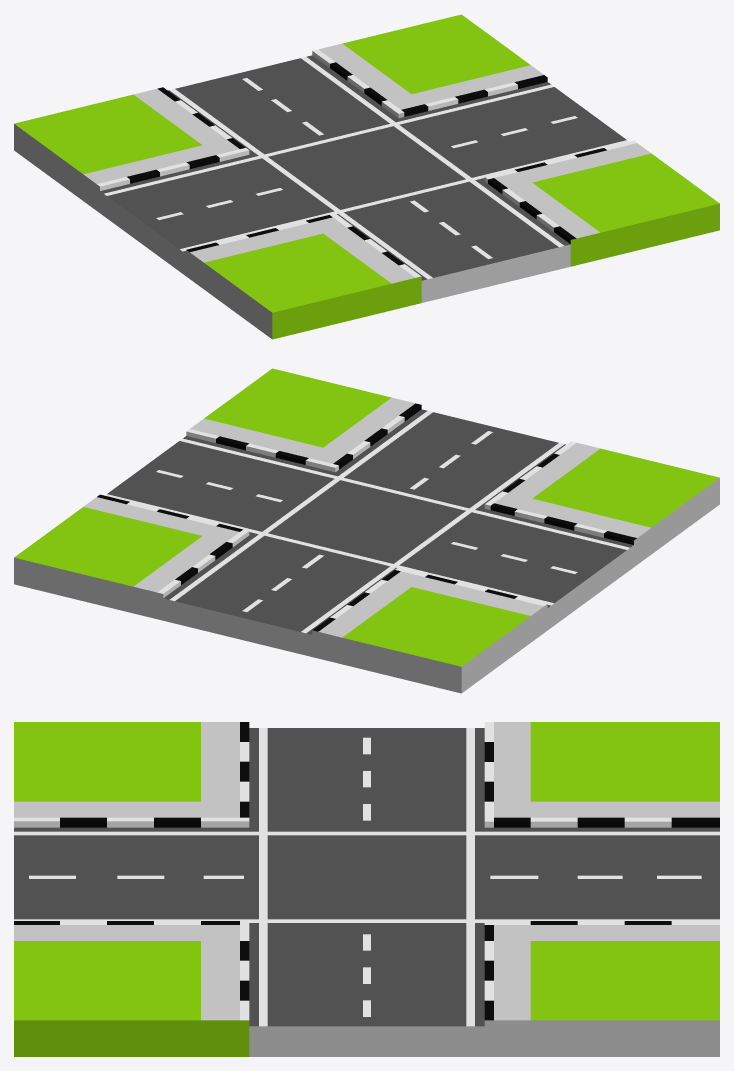
File: single lane crossjunction road.FBX
3 views of the same model, one above another, from view 1: azimuth 30°, elevation 25°; view 2: azimuth 150°, elevation 25°; view 3: azimuth 270°, elevation 25° (orthographic). The views are drawn at different scales.
Parts seen in each view (by area): view 1: cross road; view 2: cross road; view 3: cross road.
Part boxes in pixels (x1,y1,x2,y2): cross road: [14, 14, 719, 339]; cross road: [14, 368, 719, 693]; cross road: [14, 722, 719, 1056].
Size of the model in its own units: 827 by 47.24 by 827.
